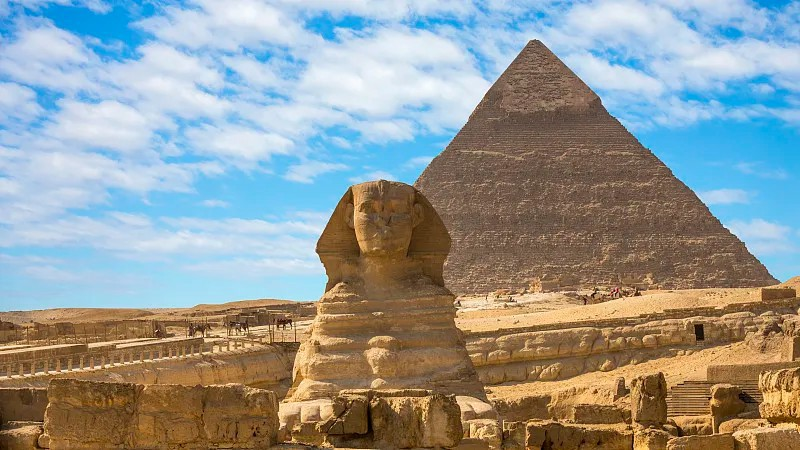Pyramid: (415, 40, 783, 293)
